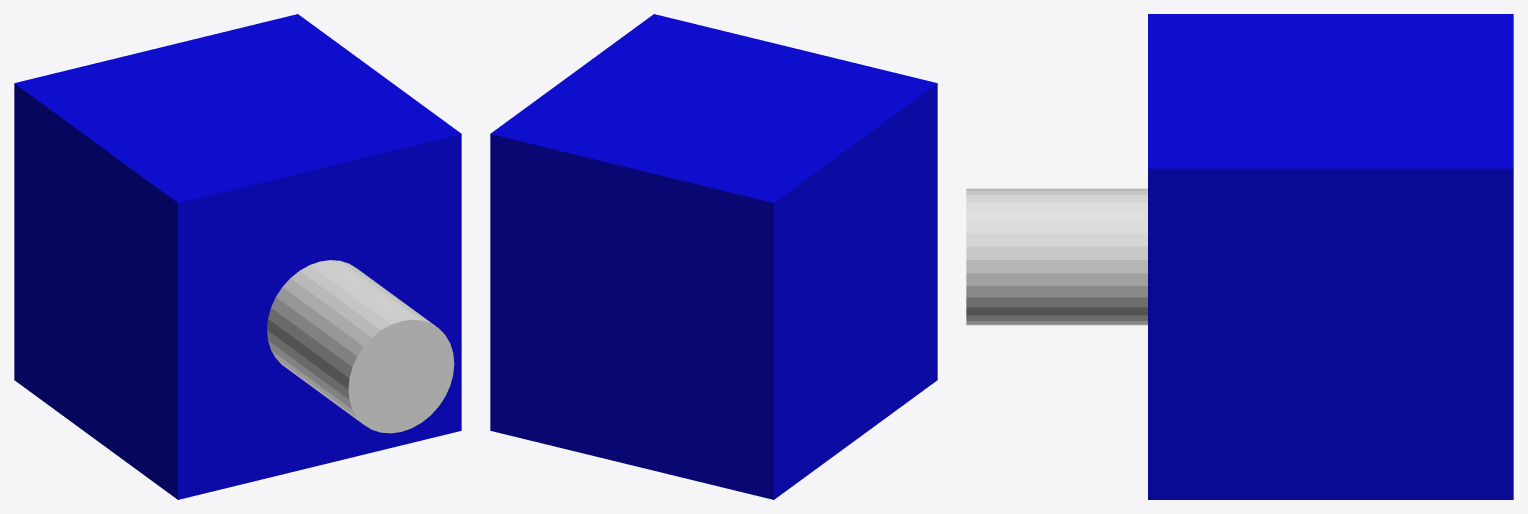
3 renders of one model, left to right at view 1: azimuth 30°, elevation 25°; view 2: azimuth 150°, elevation 25°; view 3: azimuth 270°, elevation 25°, orthographic. The views are drawn at different scales.
Visible parts, largest first — view 1: body.001, Gun.001; view 2: body.001; view 3: body.001, Gun.001.
Boxes of the visible parts, x1,y1,x2,y2 form: body.001: (14,14,461,499); Gun.001: (267,260,454,433); body.001: (490,14,937,499); body.001: (1148,14,1513,499); Gun.001: (966,188,1147,325).
Size of the model in its own units: 2 by 2 by 3.
